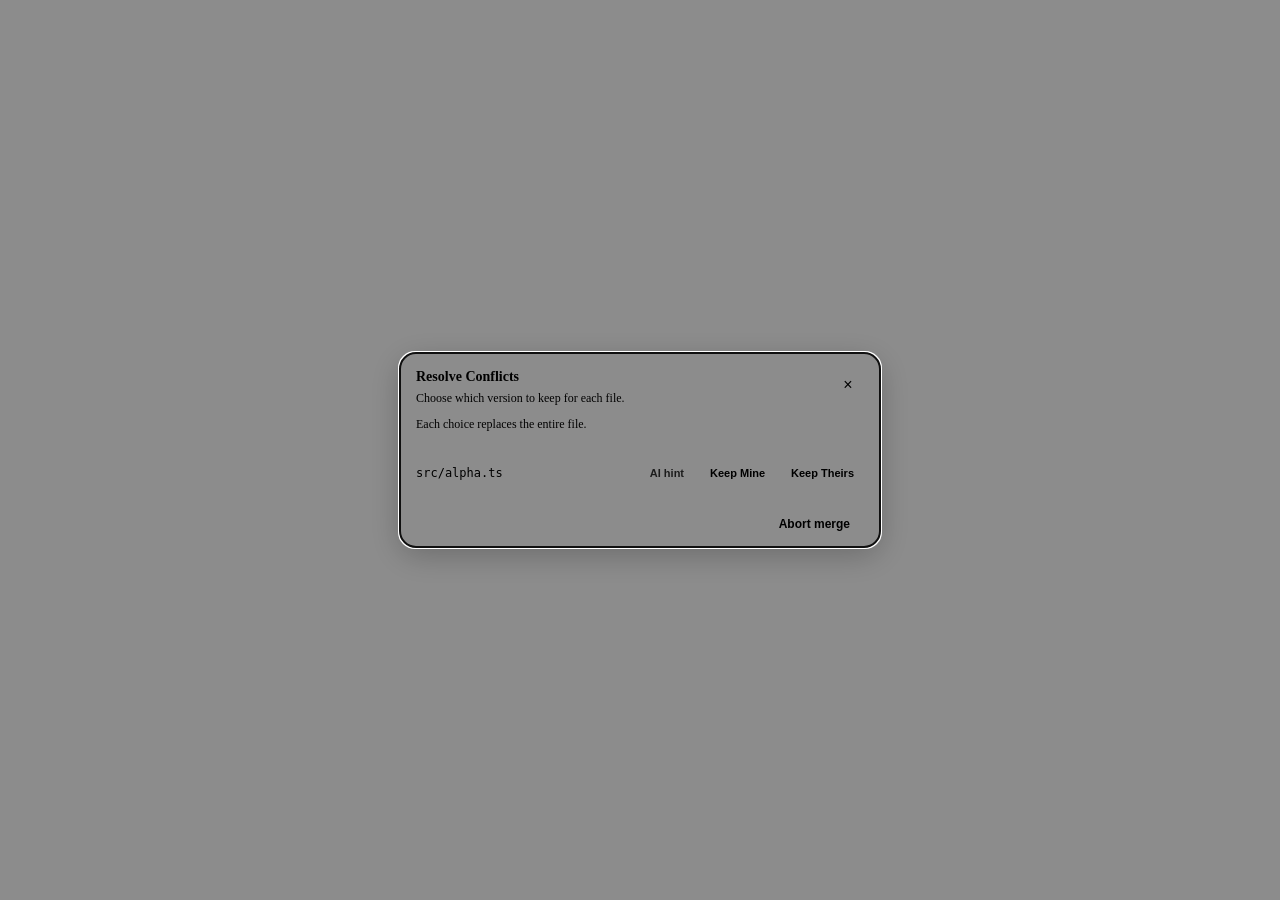
Scenario: ConflictResolver › reports AI failures without losing resolution actions
Click the button "AI hint" at (667, 473), box [640,463,694,483]
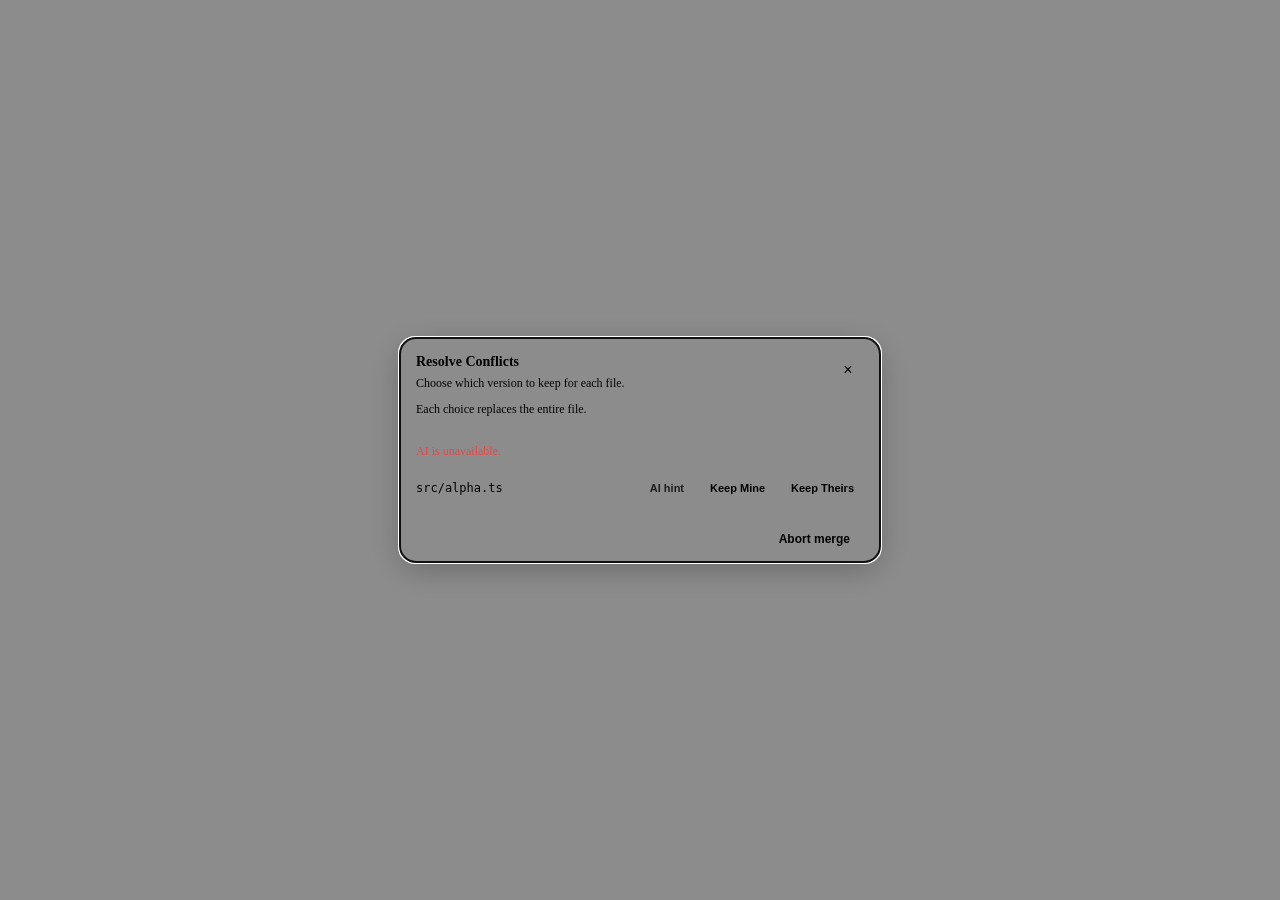
Expected: the button "Keep Mine" is enabled, [700,478,775,498]
Now the message shows "AI is unavailable", box [416,444,501,458]
